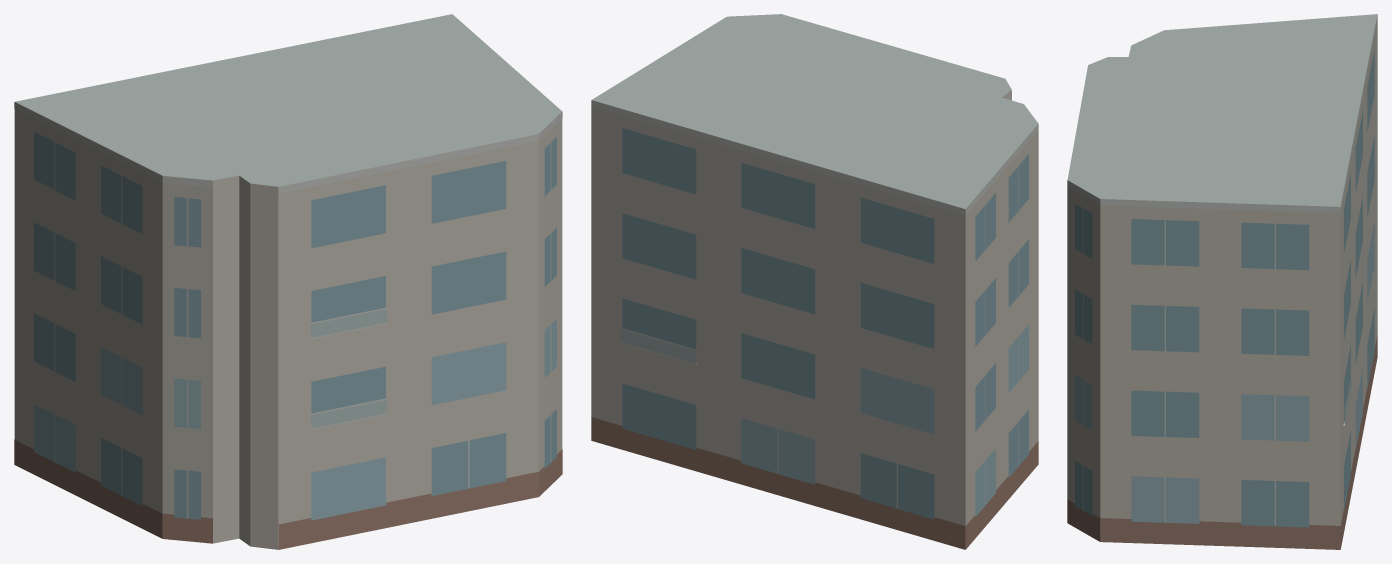
File: survey-upis-32763922.glb
3 views of the same model, side by side, from view 1: azimuth 30°, elevation 25°; view 2: azimuth 150°, elevation 25°; view 3: azimuth 270°, elevation 25° (orthographic). The views are drawn at different scales.
Parts seen in each view (by area): view 1: survey-upis-32763922.tmp; view 2: survey-upis-32763922.tmp; view 3: survey-upis-32763922.tmp.
Boxes of the visible parts, bbox=[...] form: survey-upis-32763922.tmp: bbox=[14, 14, 562, 549]; survey-upis-32763922.tmp: bbox=[591, 14, 1038, 549]; survey-upis-32763922.tmp: bbox=[1067, 14, 1377, 549].
Size of the model in its own units: 15.56 by 12.9 by 10.58.
